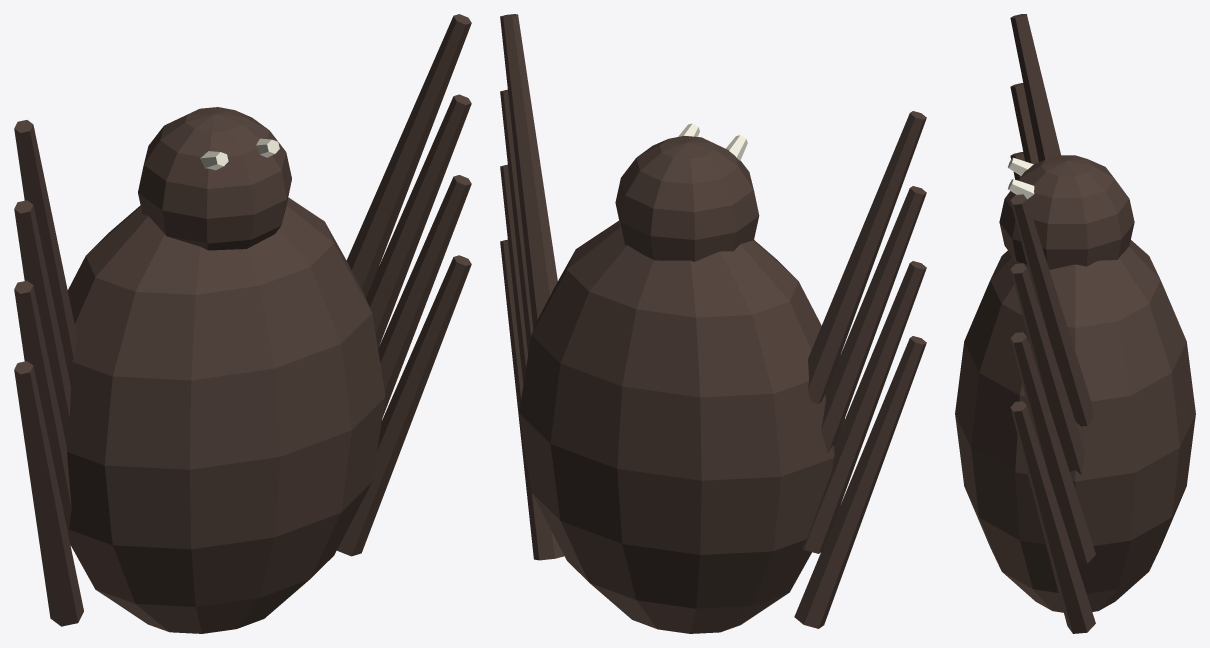
File: acromantula.glb
3 views of the same model, side by side, from view 1: azimuth 30°, elevation 25°; view 2: azimuth 150°, elevation 25°; view 3: azimuth 270°, elevation 25° (orthographic). The views are drawn at different scales.
Visible parts, largest first — view 1: abdomen, head, leg_7, leg_4, leg_0, leg_6, leg_5, leg_3, leg_1, leg_2; view 2: abdomen, head, leg_0, leg_7, leg_3, leg_1, leg_2, leg_4, leg_6, leg_5; view 3: abdomen, head, leg_4, leg_5, leg_7, leg_6, leg_3, leg_2.
Part boxes in pixels (x1,y1,x2,y2): abdomen: (63,197,385,633); head: (138,107,291,250); leg_7: (346,14,471,297); leg_4: (337,255,471,556); leg_0: (14,361,83,626); leg_6: (366,94,471,348); leg_5: (378,175,471,417); leg_3: (14,120,77,368); leg_1: (14,280,74,544); leg_2: (14,200,70,428); abdomen: (519,220,844,633); head: (615,135,759,261); leg_0: (794,336,926,628); leg_7: (500,14,557,329); leg_3: (808,111,926,403); leg_1: (801,261,926,553); leg_2: (821,186,926,453); leg_4: (500,239,564,560); leg_6: (500,89,533,355); leg_5: (500,164,527,384); abdomen: (955,240,1195,612); head: (999,155,1134,269); leg_4: (1010,401,1095,633); leg_5: (1010,332,1095,564); leg_7: (1010,194,1093,426); leg_6: (1010,263,1084,474); leg_3: (1010,14,1060,161); leg_2: (1010,83,1038,164).
Bounding box in the file's own units: 1.06 × 1.3 × 0.57.
